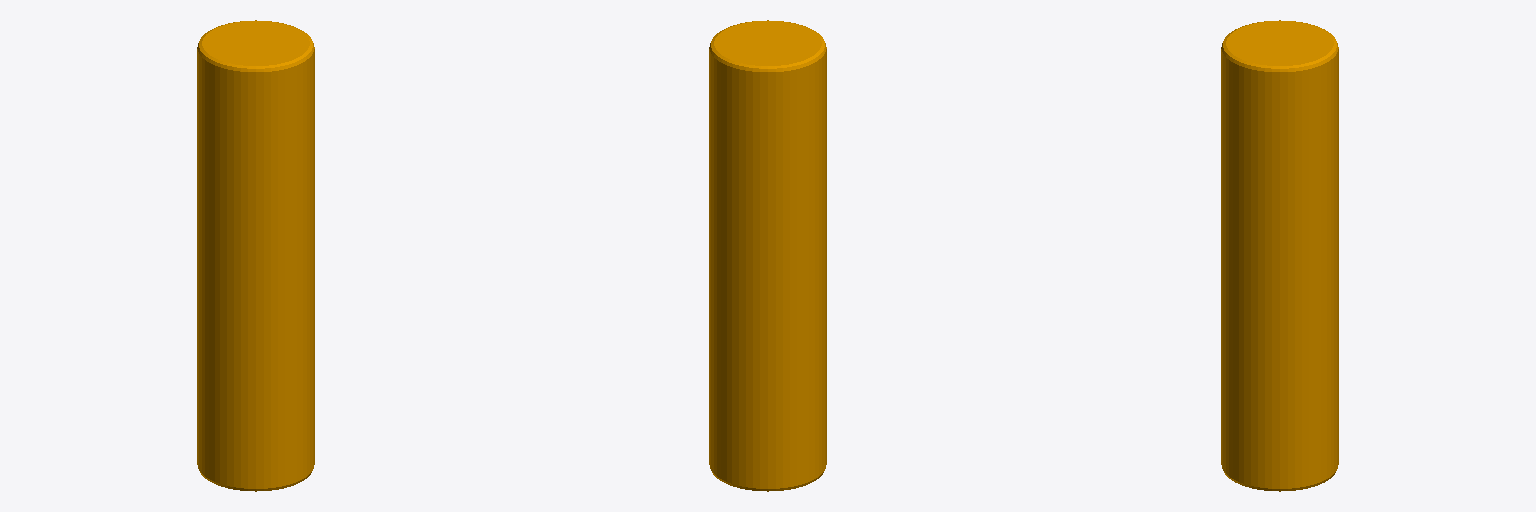
robot.urdf — bolt_large_target_point:
<?xml version="1.0" ?>
<robot name="bolt_large_target_point">
  <link name="base_link">
    <inertial>
      <origin xyz="0 0 0.04" rpy="0 0 0"/>
      <mass value="0.0125663706"/>
      <inertia ixx="7.12094335e-06" ixy="0" ixz="0" iyy="7.12094335e-06" iyz="0" izz="8.37758041e-07"/>
    </inertial>
    <visual name="visual">
      <origin xyz="0 0 0" rpy="0 0 0"/>
      <geometry>
        <mesh filename="meshes/visual.obj" scale="1 1 1"/>
      </geometry>
    </visual>
    <collision name="bolt">
      <origin xyz="0 0 0" rpy="0 0 0"/>
      <geometry>
        <mesh filename="meshes/collision/bolt.obj" scale="1 1 1"/>
      </geometry>
    </collision>
  </link>
</robot>

--- Render facts (derived) ---
The picture shows the robot from 3 angles, left to right: view 1: azimuth 30°, elevation 25°; view 2: azimuth 150°, elevation 25°; view 3: azimuth 270°, elevation 25°; orthographic projection.
Model bolt_large_target_point with 1 links and 0 joints (none), rooted at base_link, posed every joint at zero.
Links seen in each view (by area): view 1: base_link; view 2: base_link; view 3: base_link.
Boxes of the visible links, <box> form: base_link: <box>197,20,314,491</box>; base_link: <box>709,20,826,491</box>; base_link: <box>1221,20,1338,491</box>.
Bounding box of the posed robot: 0.02 × 0.02 × 0.08 m (x, y, z).
Meshes: 1 distinct files referenced, 1 mesh visuals loaded (1 OBJ).
